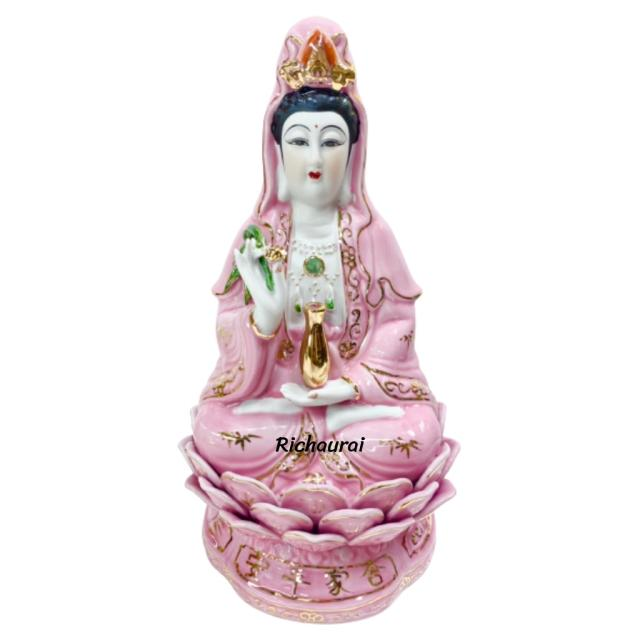Guan Yin: (186, 15, 454, 500)
